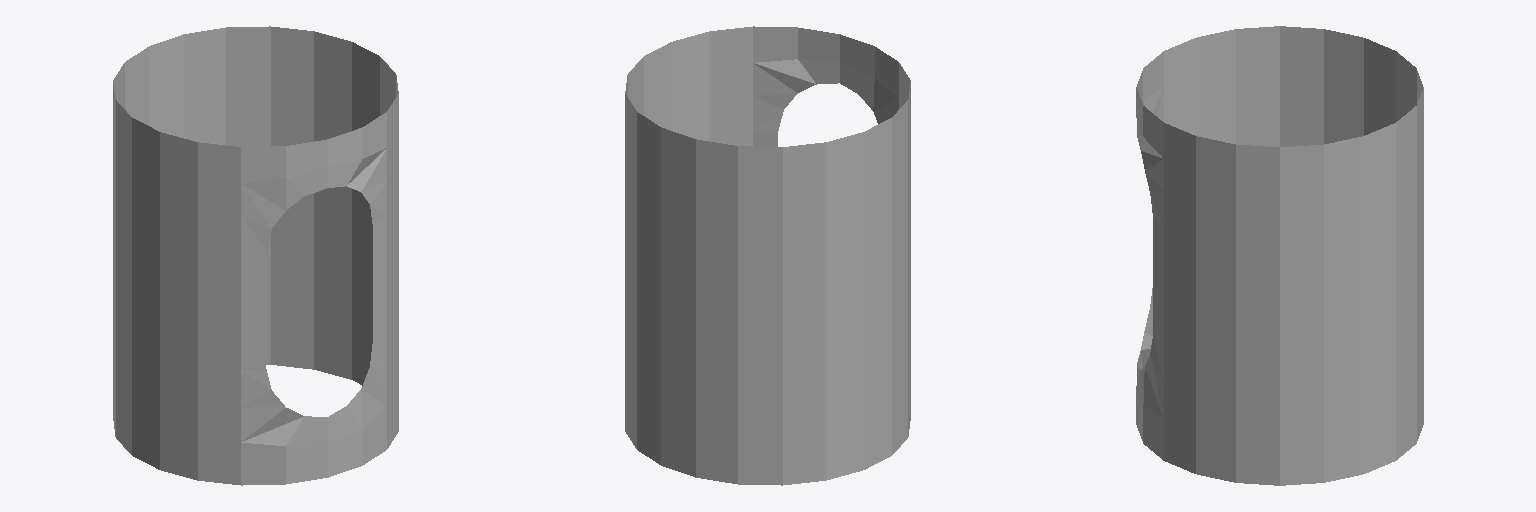
File: cylinder_side_hole.obj
The picture shows the model from 3 angles: view 1: azimuth 30°, elevation 25°; view 2: azimuth 150°, elevation 25°; view 3: azimuth 270°, elevation 25°; orthographic projection.
Parts seen in each view (by area): view 1: cylinder_side_hole; view 2: cylinder_side_hole; view 3: cylinder_side_hole.
Boxes of the visible parts, x1,y1,x2,y2 form: cylinder_side_hole: [113, 26, 398, 485]; cylinder_side_hole: [625, 26, 910, 485]; cylinder_side_hole: [1136, 26, 1423, 485].
Bounding box in the file's own units: 17.11 × 22.25 × 17.11.